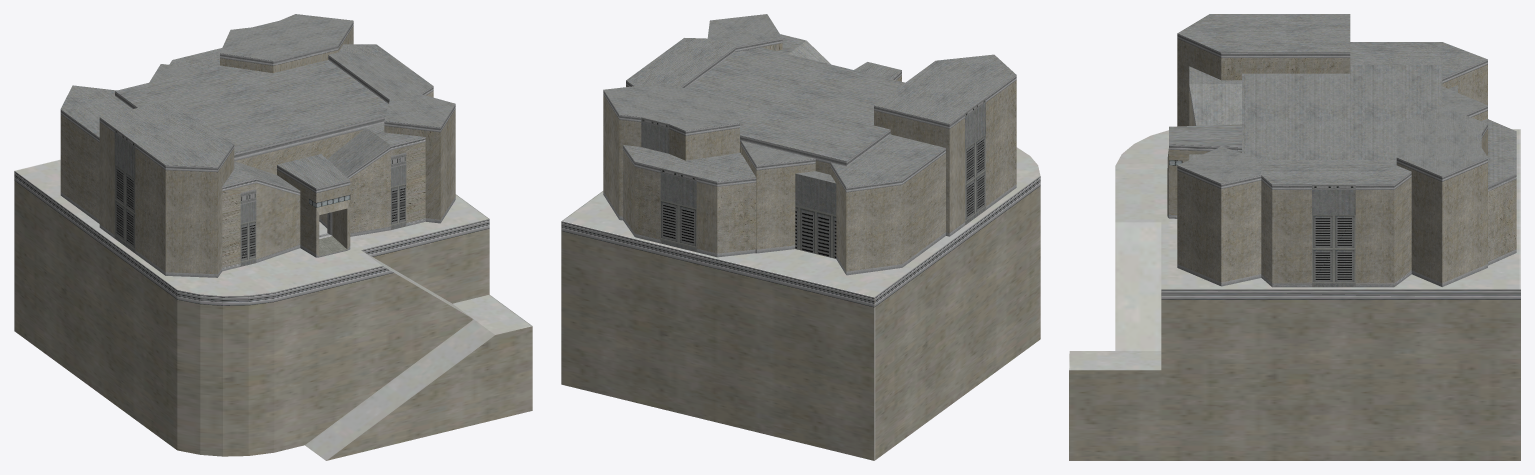
Rendered from ply_all_house_lg_s01_fp1_r0_mesh_l3.fbx.
3 views of the same model, side by side, from view 1: azimuth 30°, elevation 25°; view 2: azimuth 150°, elevation 25°; view 3: azimuth 270°, elevation 25° (orthographic). The views are drawn at different scales.
Visible parts, largest first — view 1: mesh_node; view 2: mesh_node; view 3: mesh_node.
Part boxes in pixels (left/top/right/bottom): mesh_node: left=14, top=14, right=532, bottom=460; mesh_node: left=561, top=14, right=1040, bottom=460; mesh_node: left=1069, top=14, right=1520, bottom=460.
Size of the model in its own units: 33.08 by 27.88 by 39.4.
